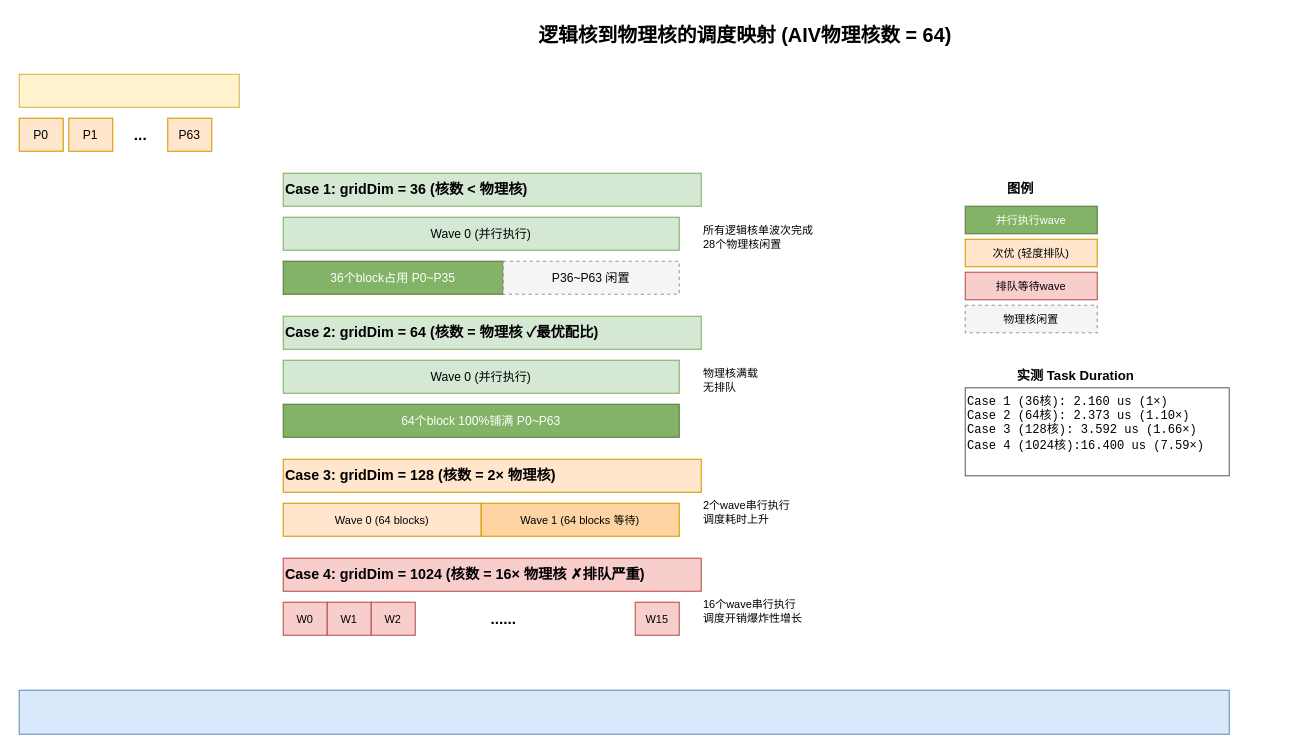
Image size: 1315x754. Some labels were removed from this diagram. Here are the shapes that lost their labels. From the top down, the centre of each, then its label:
(x=128, y=90): 物理核 (64个 AIV)
(x=623, y=711): 结论：当 gridDim > 64 时，多余逻辑核须排队等待物理核空闲；最优做法是 gridDim = 物理核数（64）
